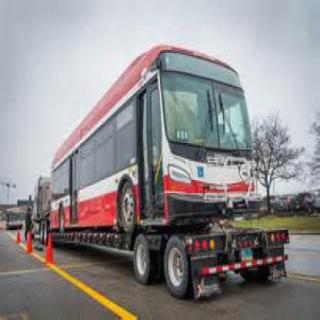Normal_vehicle: (45, 35, 278, 240)
